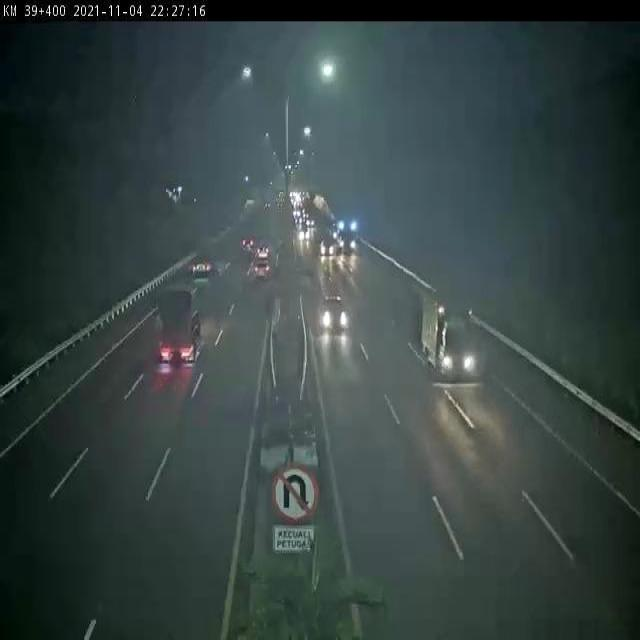ARABA: (321, 295, 348, 333), (253, 263, 269, 281), (255, 242, 270, 258)
KAMYONET: (420, 293, 477, 380), (155, 285, 198, 363), (188, 240, 216, 273)
